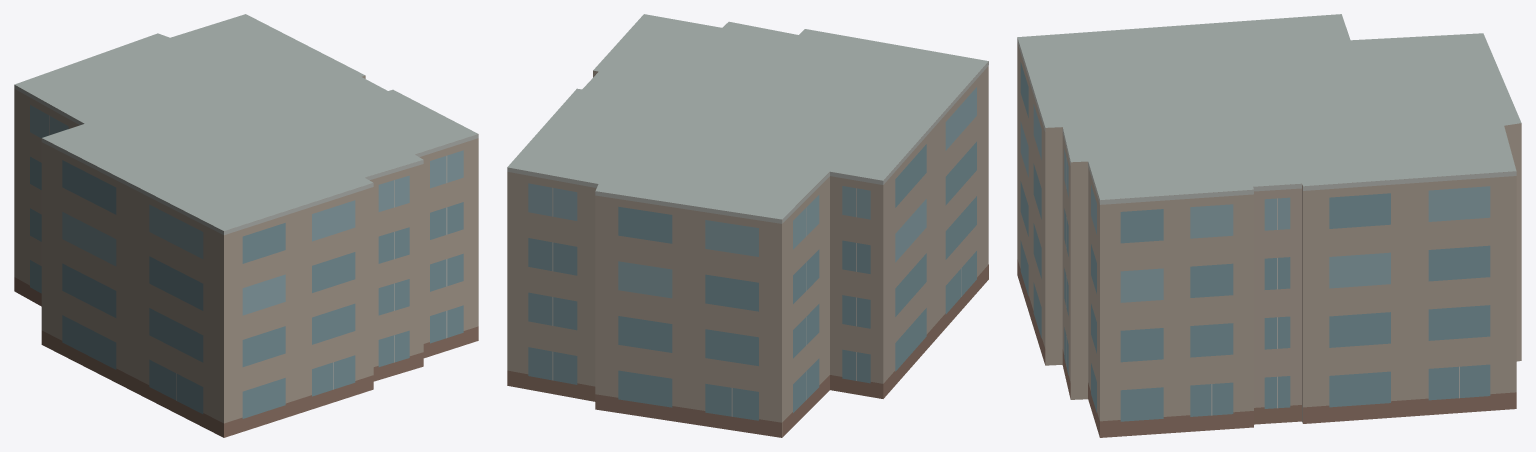
File: survey-upis-32640195.glb
The picture shows the model from 3 angles, left to right: view 1: azimuth 30°, elevation 25°; view 2: azimuth 150°, elevation 25°; view 3: azimuth 270°, elevation 25°; orthographic projection. The views are drawn at different scales.
Visible parts, largest first — view 1: survey-upis-32640195.tmp; view 2: survey-upis-32640195.tmp; view 3: survey-upis-32640195.tmp.
Boxes of the visible parts, x1=… form: survey-upis-32640195.tmp: x1=14, y1=14, x2=478, y2=437; survey-upis-32640195.tmp: x1=507, y1=14, x2=988, y2=437; survey-upis-32640195.tmp: x1=1017, y1=14, x2=1521, y2=437.
Size of the model in its own units: 20.5 by 12.2 by 23.46.
